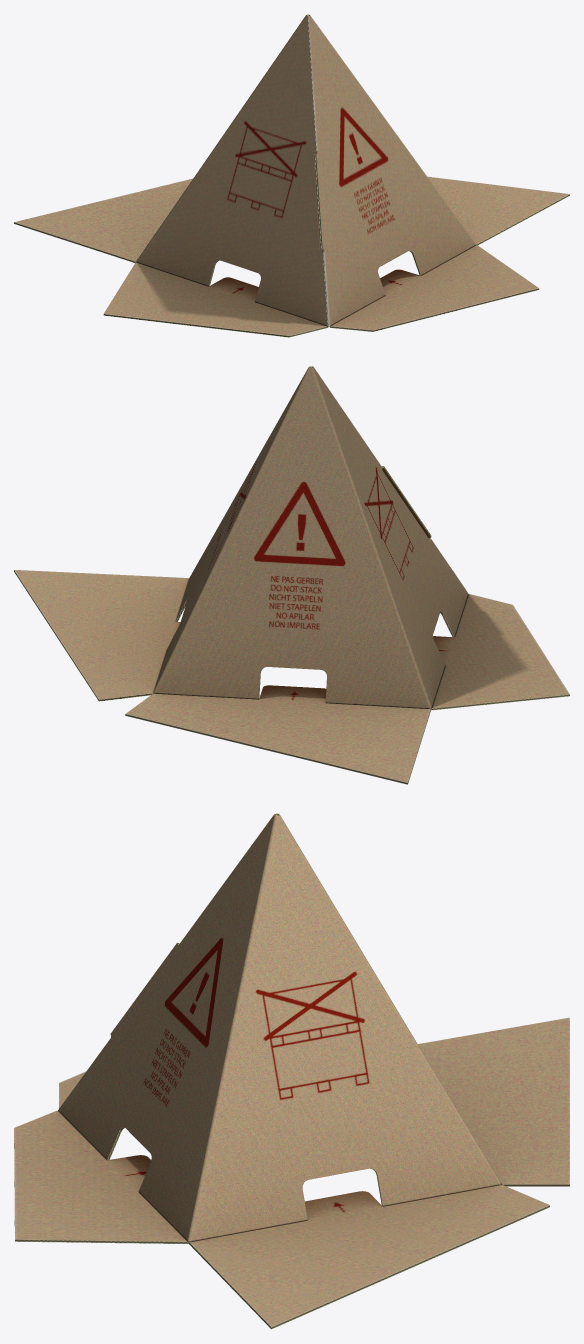
File: cono.glb
3 renders of one model, top to bottom at view 1: azimuth 30°, elevation 25°; view 2: azimuth 150°, elevation 25°; view 3: azimuth 270°, elevation 25°, orthographic. The views are drawn at different scales.
Visible parts, largest first — view 1: cono_ARD-node; view 2: cono_ARD-node; view 3: cono_ARD-node.
Part boxes in pixels (x1,y1,x2,y2): cono_ARD-node: (14, 14, 569, 337); cono_ARD-node: (14, 366, 569, 784); cono_ARD-node: (14, 813, 569, 1329).
Size of the model in its own units: 0.471 by 0.2301 by 0.3428.
Materials: 3 (3 with a texture image).
